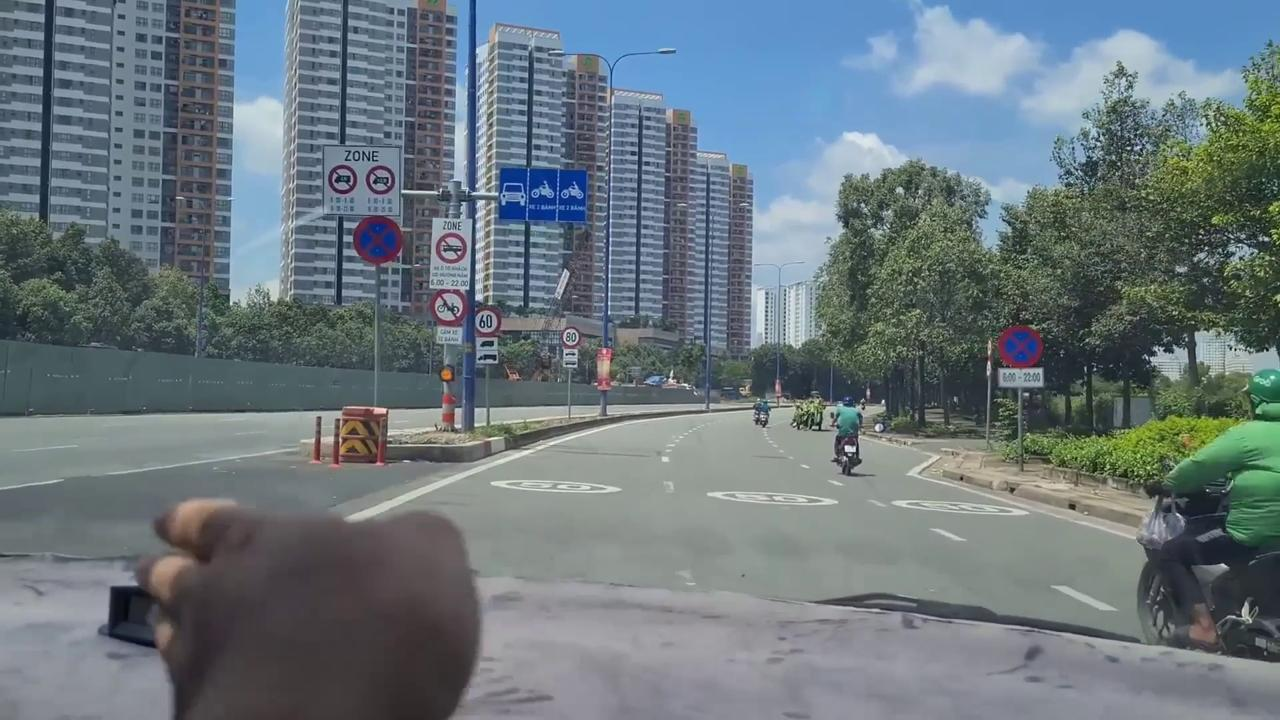Biển phụ: (996, 366, 1048, 389), (474, 336, 499, 365), (435, 327, 464, 345), (563, 350, 579, 368)
Cấm cac phương tiện hoạt động trong khung giờ cố định: (320, 144, 405, 218), (430, 217, 471, 290)
Cấm dừng - Cấm đỗ: (352, 215, 403, 266), (998, 324, 1046, 367)
Cấm xe máy: (429, 288, 470, 328)
GIơi hạn tốc độ 60Km/h: (473, 306, 502, 337)
Giới hạn tốc độ 80Km/h: (562, 326, 582, 349)
Làn đường cho từng xe: (497, 166, 587, 223)
